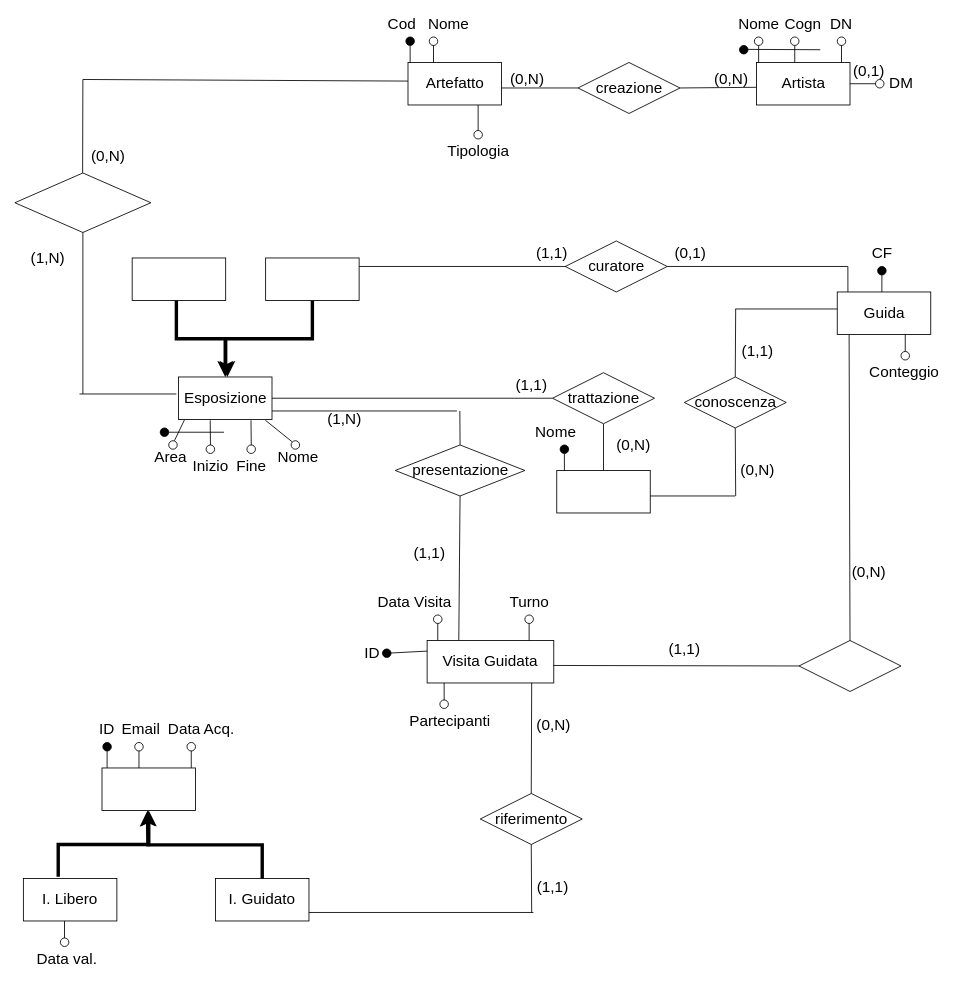
This 954x983 diagram has some shape labels left out. The shapes that lost their labels are listed below. From the top down, each one's centre as x and y in pixels, then its label:
the point at 82,202: appartenenza
the point at 178,278: Passata
the point at 312,278: In_corso
the point at 603,491: Argomento
the point at 849,665: gestione
the point at 148,788: Biglietto
